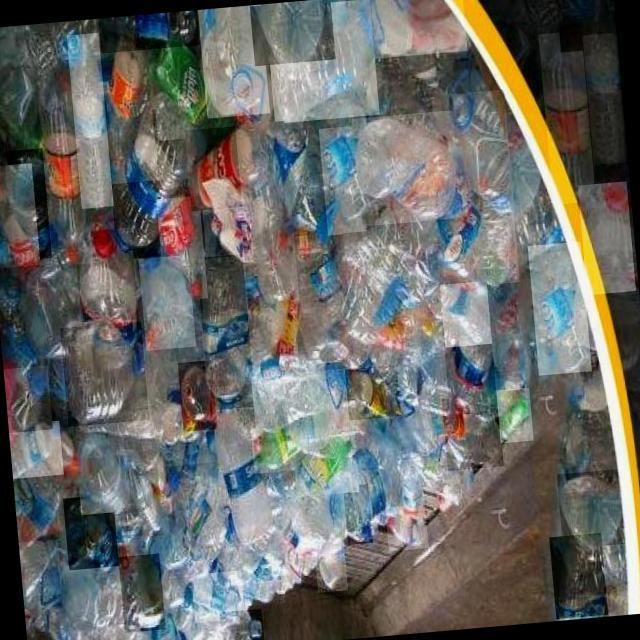defected: (264, 0, 379, 123), (352, 110, 462, 226), (234, 120, 298, 304), (61, 321, 150, 426), (196, 254, 255, 410), (260, 126, 338, 242), (288, 232, 354, 364), (449, 87, 514, 215), (198, 4, 270, 118), (184, 124, 269, 210), (74, 227, 140, 335), (250, 368, 354, 432), (578, 180, 636, 294), (163, 460, 224, 562), (369, 0, 467, 58), (249, 0, 335, 66), (556, 467, 626, 548), (139, 254, 197, 350), (442, 318, 498, 414), (318, 125, 366, 234), (6, 147, 52, 260), (548, 532, 608, 618), (290, 422, 359, 496), (442, 394, 504, 471), (74, 430, 130, 514), (63, 494, 119, 570), (0, 162, 40, 267), (470, 204, 520, 285), (118, 450, 162, 538), (0, 24, 37, 128), (118, 553, 165, 632), (439, 280, 492, 348), (3, 365, 52, 433), (8, 421, 64, 478), (344, 364, 400, 420), (177, 359, 217, 432), (190, 570, 244, 622), (250, 424, 303, 474), (18, 539, 62, 597), (242, 550, 284, 606), (496, 387, 533, 443), (384, 504, 428, 551), (342, 484, 372, 544), (314, 541, 348, 592), (398, 457, 426, 512), (218, 608, 263, 640)
good: (104, 106, 206, 260), (35, 74, 93, 266), (539, 30, 597, 204), (96, 36, 158, 184), (210, 408, 274, 548), (528, 242, 592, 376), (148, 28, 223, 140), (66, 32, 112, 208), (582, 32, 626, 164), (156, 194, 208, 300), (98, 10, 200, 53), (554, 0, 611, 52)
